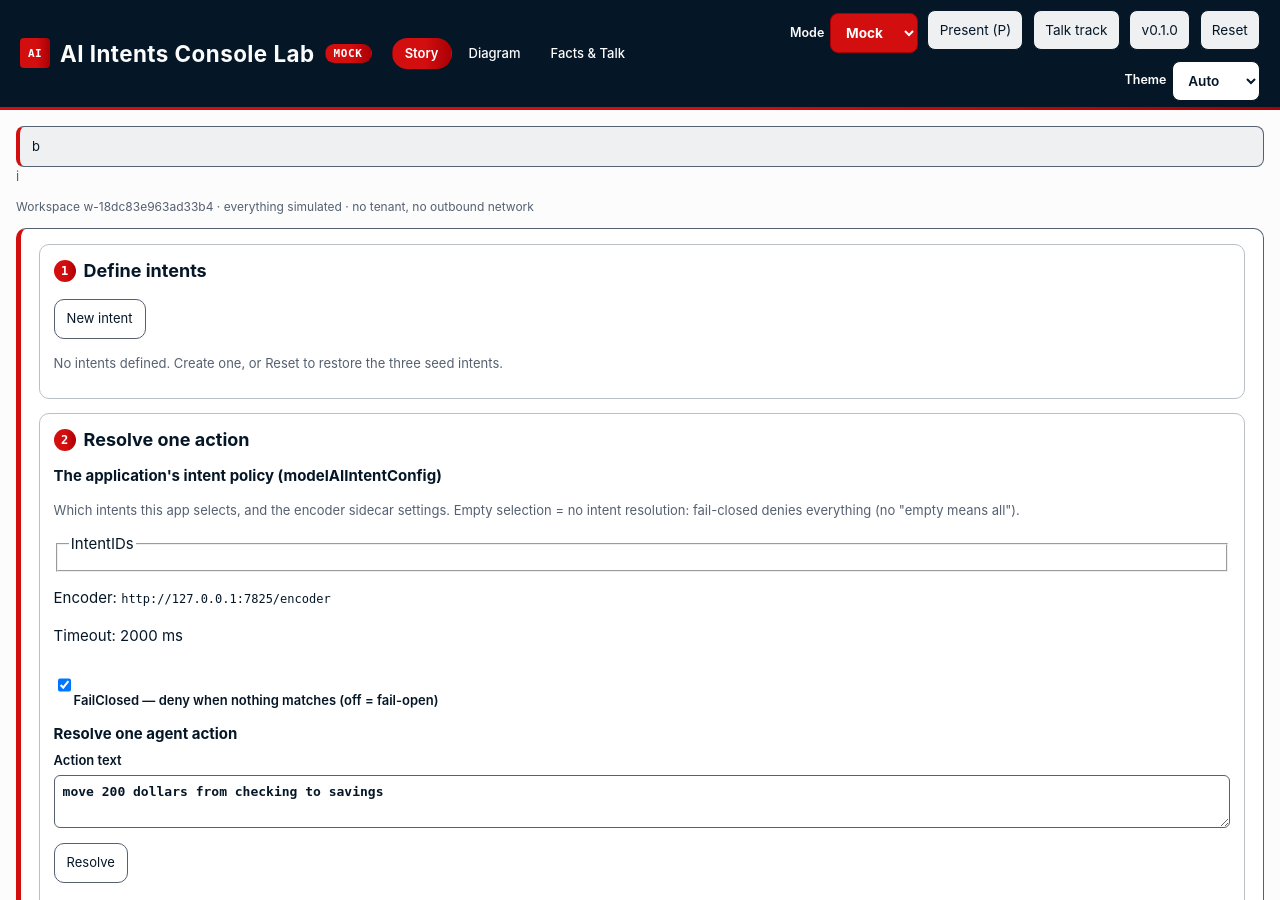
Test: real-mode resolve result › shows the mock|real chip, decidedBy and the mono reasonCode
Expected: the element with test id "banner" showing "b i" is shown, x1=16 y1=126 x2=1264 y2=186
Click the button with test id "resolve-run".
click(91, 863)  # box x1=54 y1=843 x2=128 y2=883
(page scrolled)
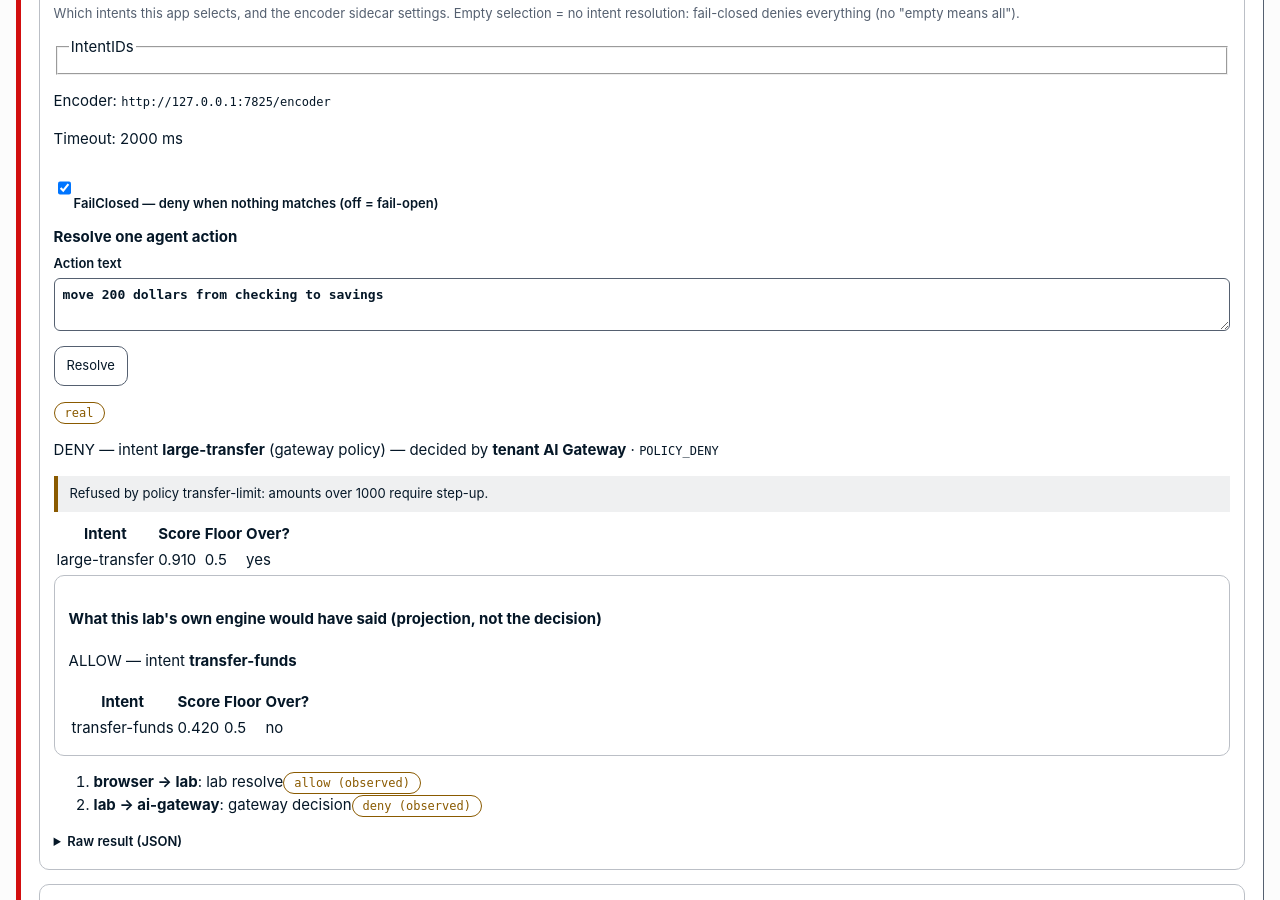
Expected: the element with test id "resolve-result" is shown, x1=54 y1=401 x2=1230 y2=851
Expected: the text with test id "resolve-source" reads "real", x1=65 y1=406 x2=94 y2=420
Expected: the text with test id "resolve-decided-by" reads "tenant AI Gateway", x1=492 y1=440 x2=626 y2=459
